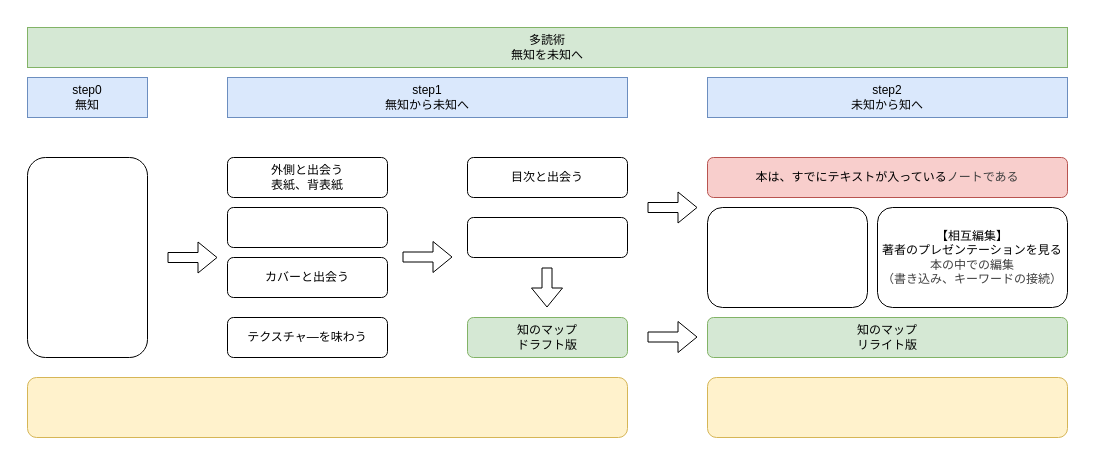
This 1094x464 diagram has some shape labels left out. Each missing label, with the box of its shape:
【自己編集 】 本の外での編集 年表 引用ノート 三冊の並び: (706, 206, 868, 308)
タイトルと出会う: (226, 206, 388, 248)
偶然 接触 贈り物: (26, 156, 148, 358)
出会いの場 本屋、図書館、カフェ: (26, 376, 628, 438)
目次から想像する: (466, 216, 628, 258)
読む場（編む場） 図書館、カフェ、 自室: (706, 376, 1068, 438)
